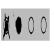correct: (15, 14, 22, 37)
not correct: (3, 11, 10, 41)
